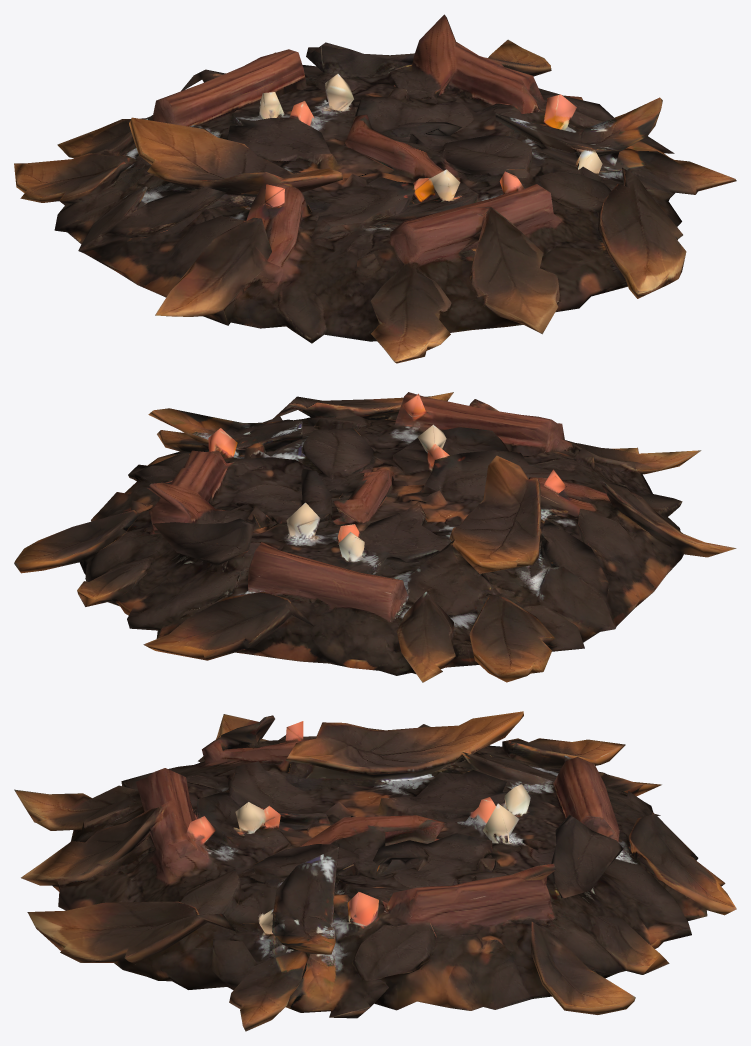
The picture shows the model from 3 angles, top to bottom: view 1: azimuth 30°, elevation 25°; view 2: azimuth 150°, elevation 25°; view 3: azimuth 270°, elevation 25°; orthographic projection. The views are drawn at different scales.
Parts seen in each view (by area): view 1: Mesh_0; view 2: Mesh_0; view 3: Mesh_0.
Part boxes in pixels (bbox=[...]): Mesh_0: bbox=[14, 14, 736, 363]; Mesh_0: bbox=[14, 392, 736, 682]; Mesh_0: bbox=[14, 711, 736, 1031].
Size of the model in its own units: 1.88 by 0.2859 by 1.92.
Materials: 1 (1 with a texture image).
